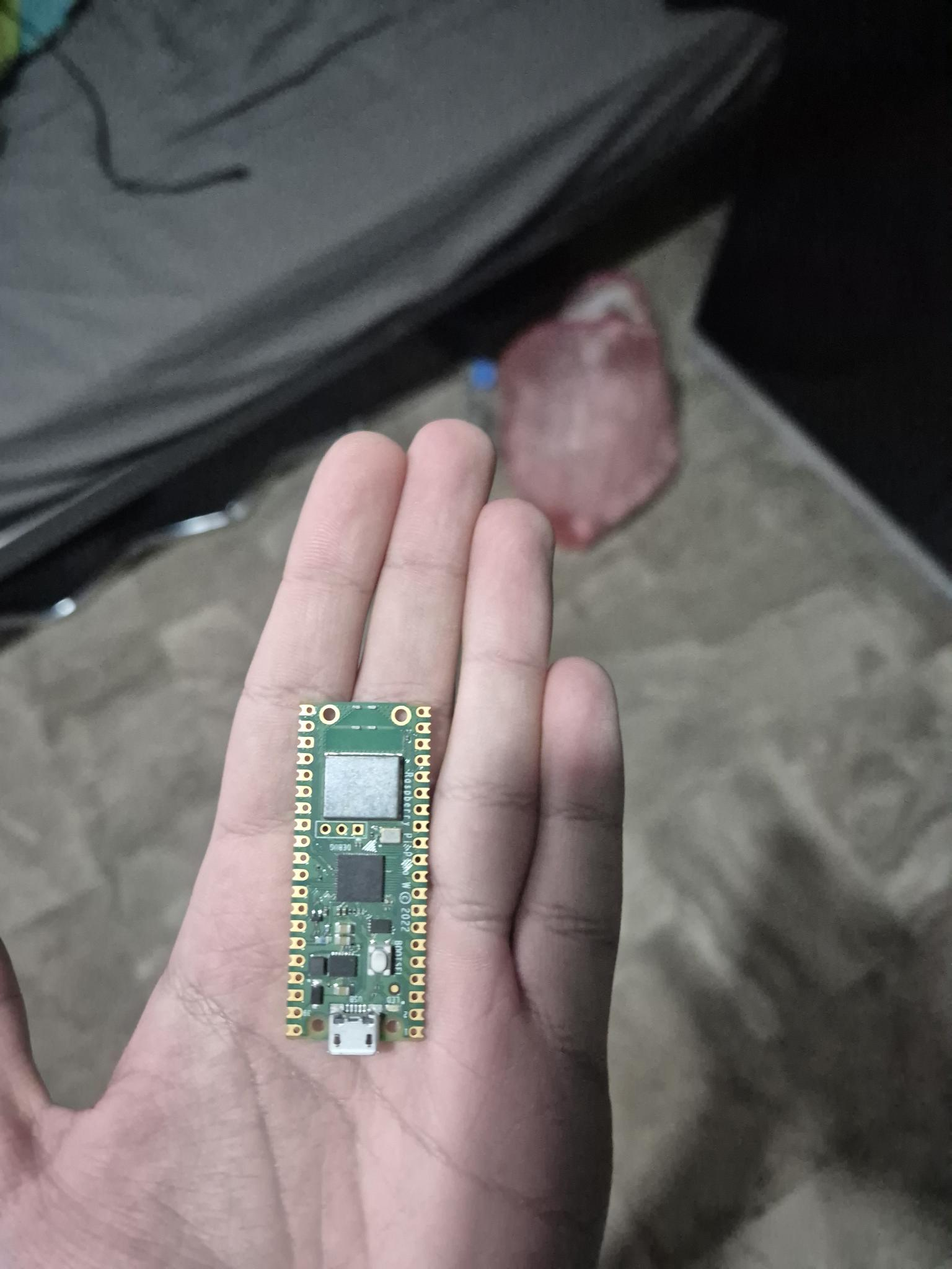raspberry-pi-pico-w: (286, 701, 448, 1055)
